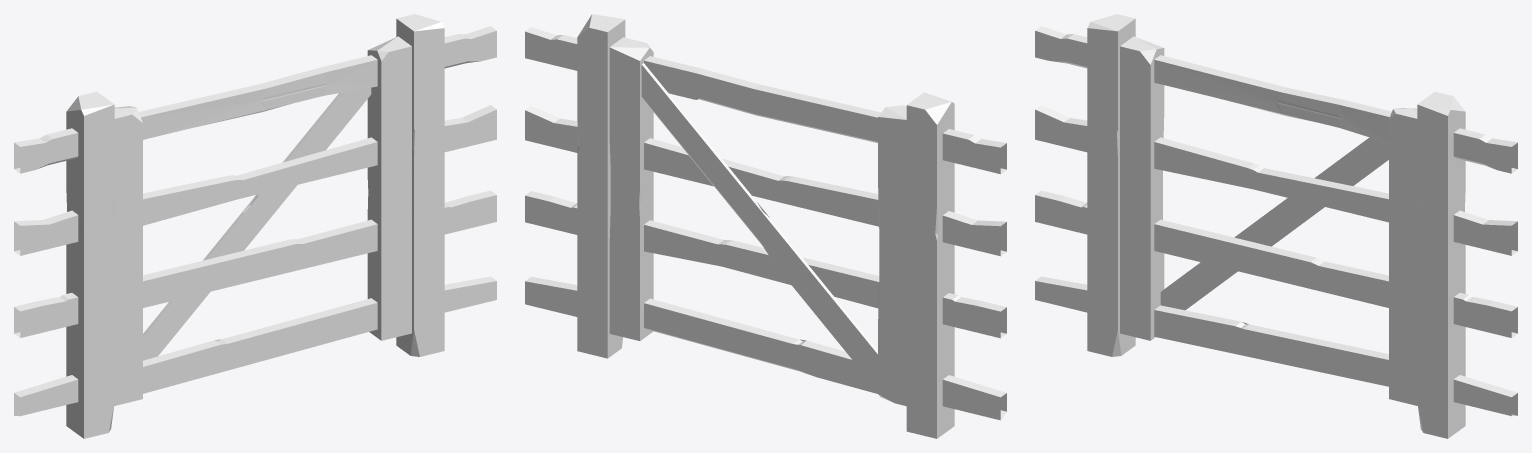
File: Bld_01_Fence_Wood_Gate_Single_Short_Sides_Worned_01.glb
3 renders of one model, left to right at view 1: azimuth 30°, elevation 25°; view 2: azimuth 150°, elevation 25°; view 3: azimuth 330°, elevation 25°, orthographic.
Parts seen in each view (by area): view 1: Bld_01_Fence_Wood_Gate_Single_Short_Worned_01, Bld_01_Fence_Wood_Gate_Single_Short_Sides_Worned_01; view 2: Bld_01_Fence_Wood_Gate_Single_Short_Worned_01, Bld_01_Fence_Wood_Gate_Single_Short_Sides_Worned_01; view 3: Bld_01_Fence_Wood_Gate_Single_Short_Worned_01, Bld_01_Fence_Wood_Gate_Single_Short_Sides_Worned_01.
Part boxes in pixels (x1,y1,x2,y2): Bld_01_Fence_Wood_Gate_Single_Short_Worned_01: [114, 36, 411, 405]; Bld_01_Fence_Wood_Gate_Single_Short_Sides_Worned_01: [14, 14, 496, 438]; Bld_01_Fence_Wood_Gate_Single_Short_Worned_01: [609, 37, 906, 406]; Bld_01_Fence_Wood_Gate_Single_Short_Sides_Worned_01: [525, 14, 1006, 438]; Bld_01_Fence_Wood_Gate_Single_Short_Worned_01: [1120, 36, 1417, 405]; Bld_01_Fence_Wood_Gate_Single_Short_Sides_Worned_01: [1035, 14, 1517, 438].
Bounding box in the file's own units: 1.8 × 1.18 × 0.1153.
1 material, 1 textured.
